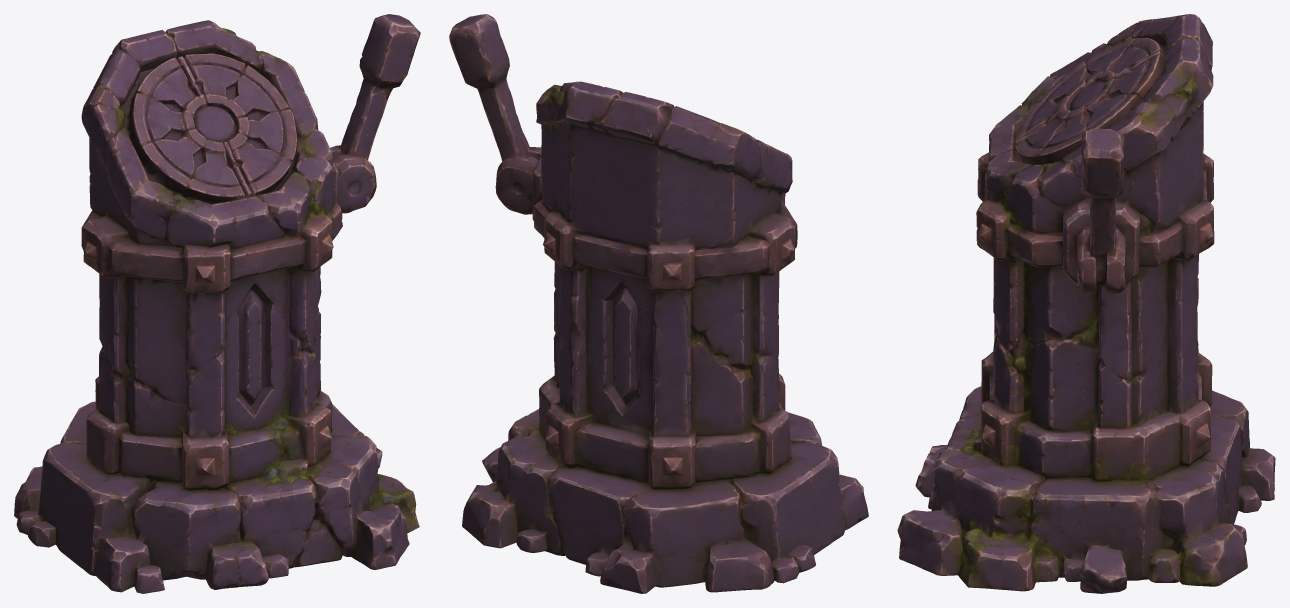
File: rune_switch.glb
3 views of the same model, side by side, from view 1: azimuth 30°, elevation 25°; view 2: azimuth 150°, elevation 25°; view 3: azimuth 270°, elevation 25° (orthographic). The views are drawn at different scales.
Visible parts, largest first — view 1: tripo_node_084c24e8-c586-41a7-b962-838a7d031b6c; view 2: tripo_node_084c24e8-c586-41a7-b962-838a7d031b6c; view 3: tripo_node_084c24e8-c586-41a7-b962-838a7d031b6c.
Boxes of the visible parts, bbox=[...] form: tripo_node_084c24e8-c586-41a7-b962-838a7d031b6c: bbox=[14, 14, 420, 593]; tripo_node_084c24e8-c586-41a7-b962-838a7d031b6c: bbox=[449, 14, 868, 593]; tripo_node_084c24e8-c586-41a7-b962-838a7d031b6c: bbox=[897, 14, 1275, 593].
Bounding box in the file's own units: 0.8439 × 1 × 0.7172.
Materials: 1 (1 with a texture image).
